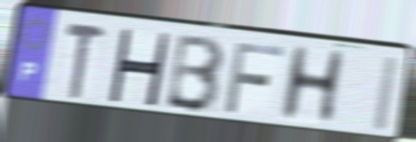B: (162, 32, 227, 115)
F: (222, 40, 287, 116)
H: (276, 43, 349, 124), (105, 26, 173, 109)
I: (368, 53, 403, 135)
T: (63, 20, 109, 102)
